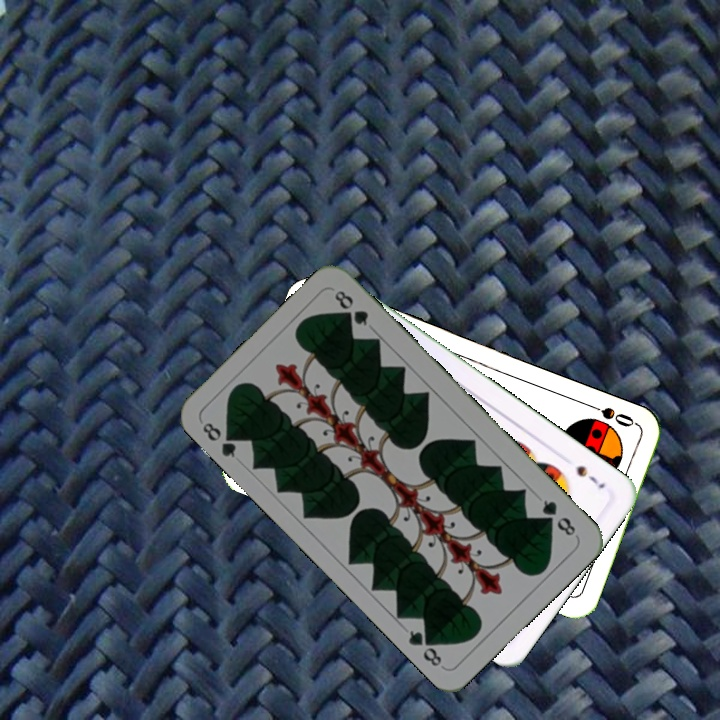G8: (198, 418, 242, 460), (538, 496, 579, 541)
S7: (572, 461, 608, 492)
SO: (582, 399, 638, 430)
